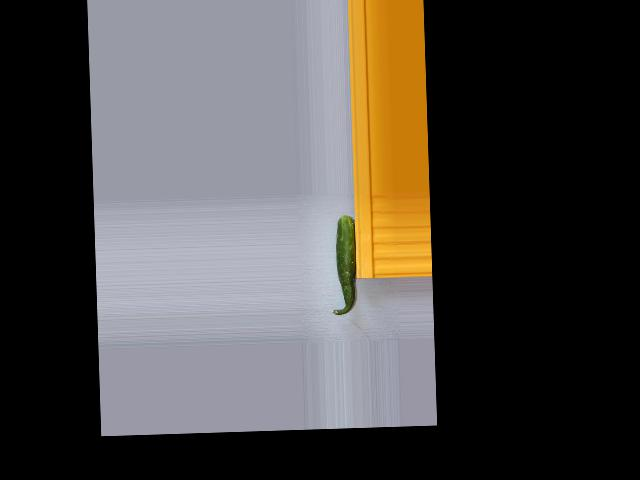cucumber: (330, 215, 358, 315)
